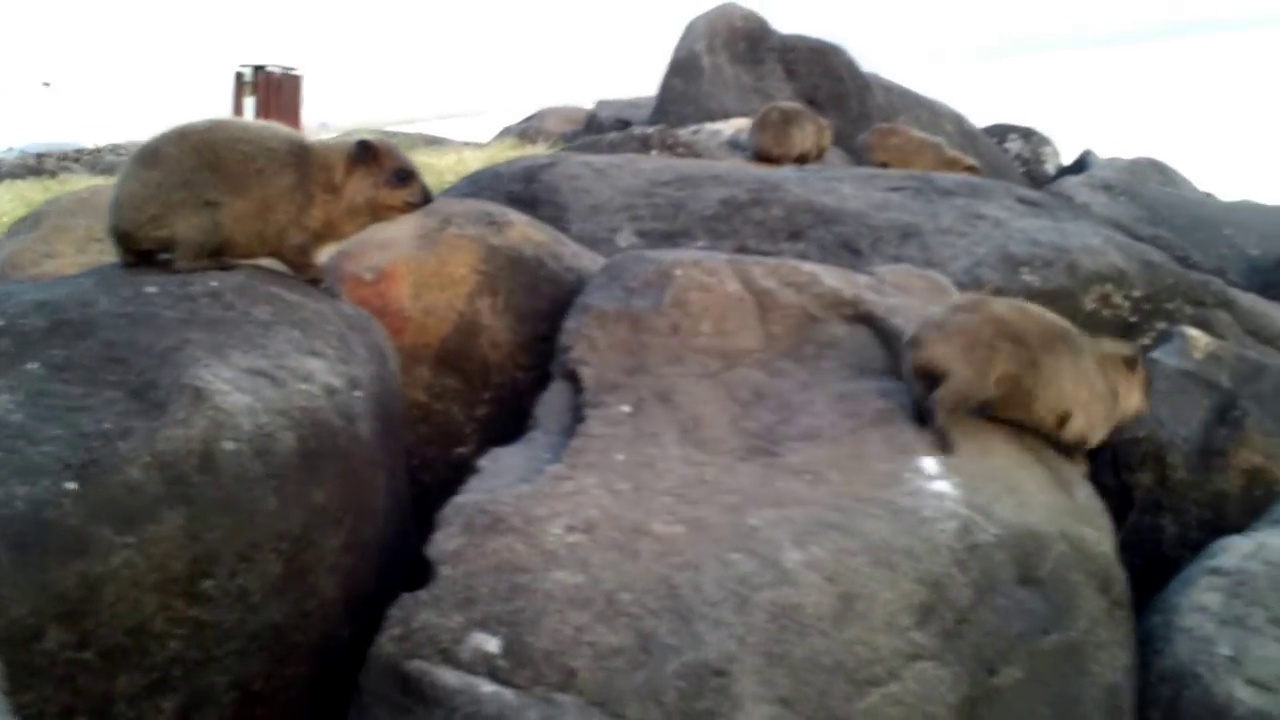Rock Hyrex: (108, 115, 437, 308), (899, 290, 1153, 475), (853, 119, 986, 176), (747, 100, 835, 170)
